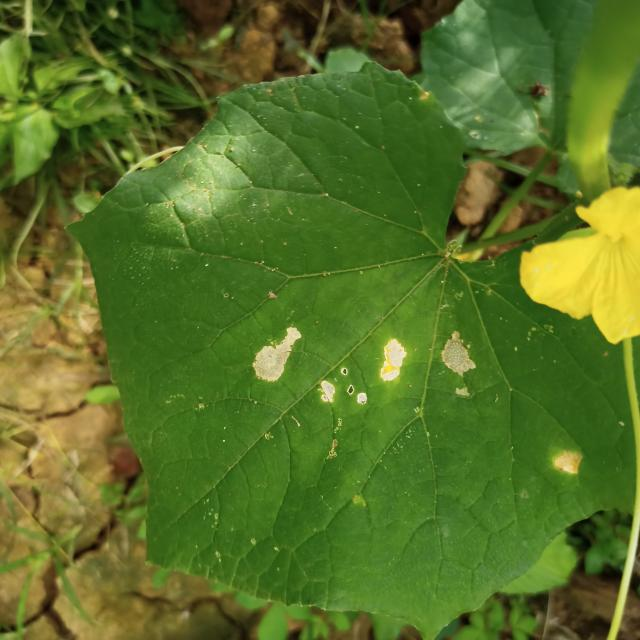disease_cucumber: (249, 322, 477, 407), (550, 448, 586, 477)
